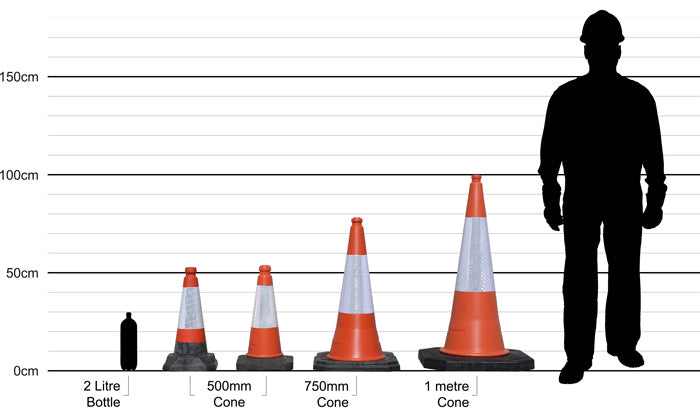Road_cone: (416, 173, 539, 372), (313, 219, 402, 372), (235, 264, 294, 370), (162, 270, 222, 370)
